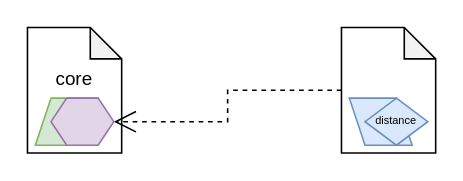
The diagram is 463 pixels wide and 181 high, and some of its shapes have lost their labels. The box of each missing label's shape, as (x1, y1, x2, y2) in pixels:
aux: (340, 26, 436, 153)
log: (49, 97, 114, 145)
